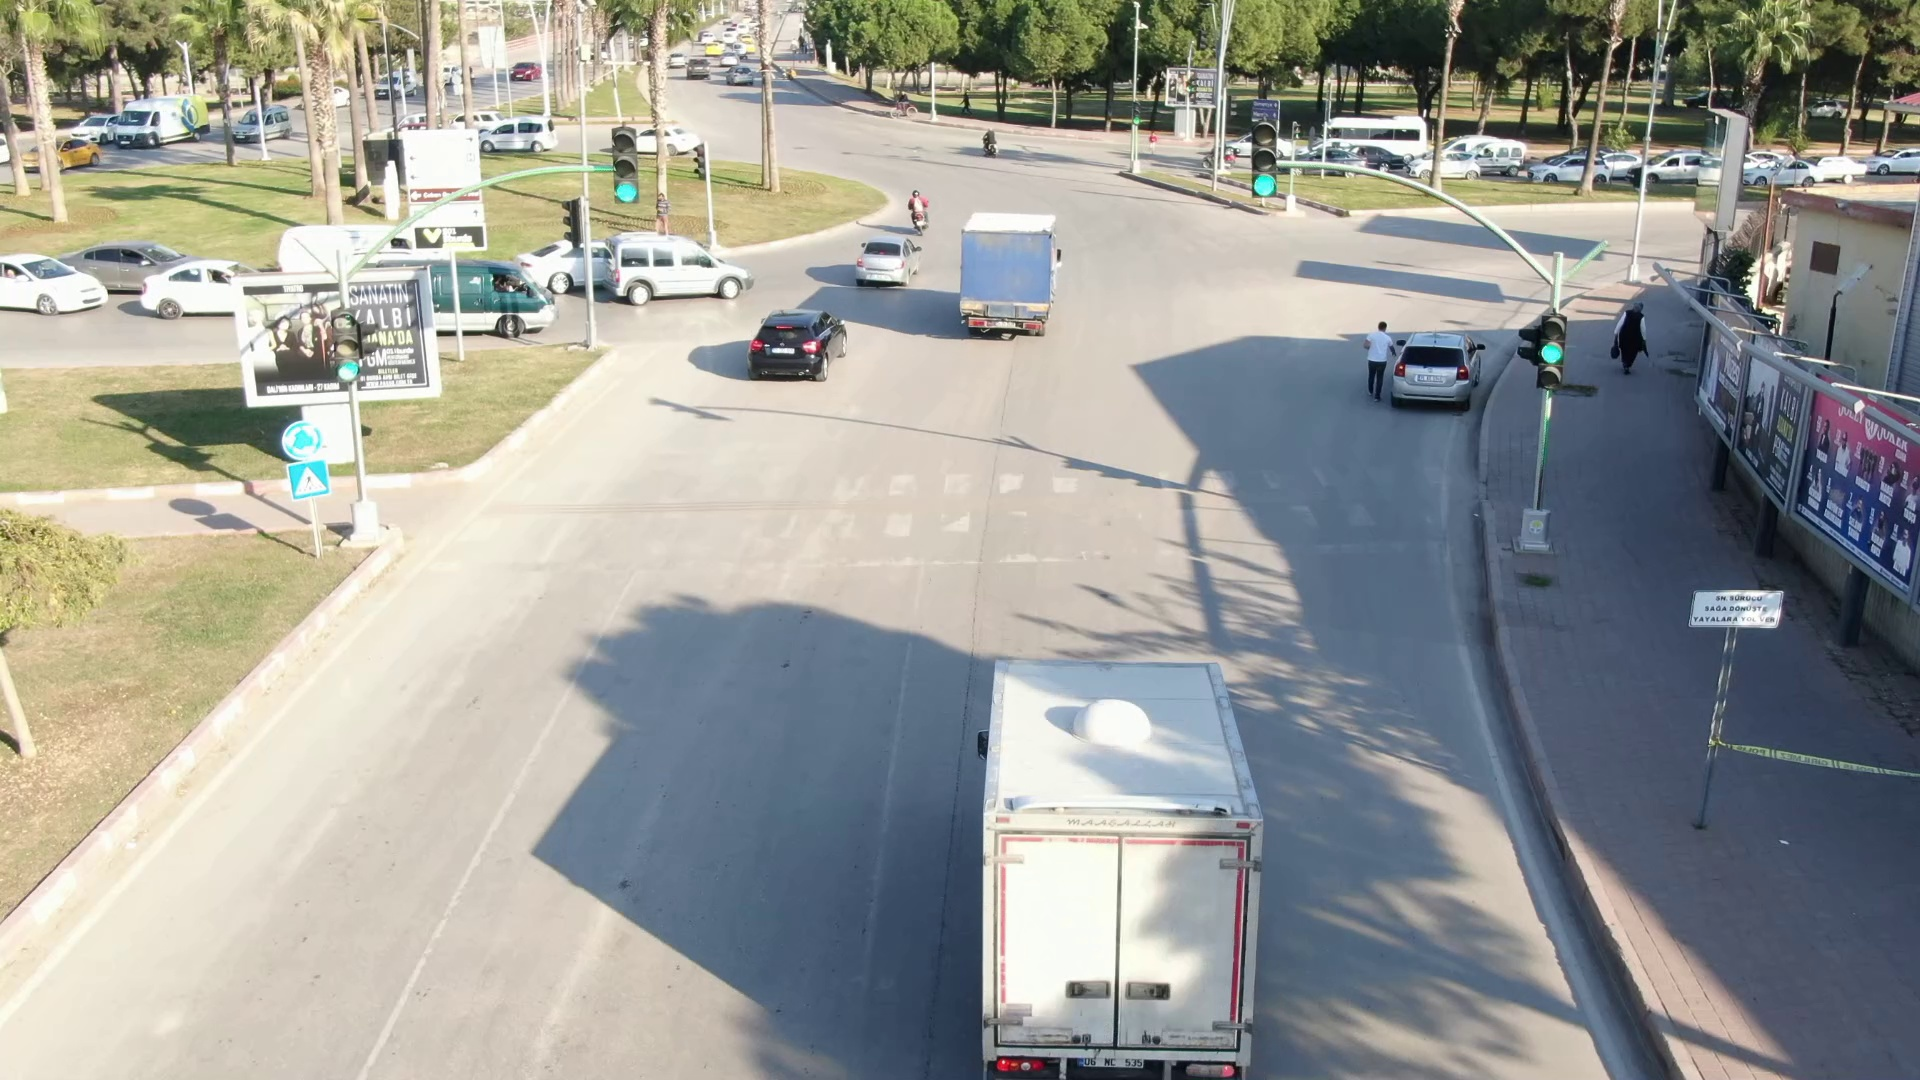car: (598, 225, 762, 309), (1386, 321, 1495, 412), (742, 301, 860, 383), (1, 258, 124, 317), (844, 231, 933, 290)
person: (1603, 293, 1656, 382), (1349, 312, 1392, 398)
